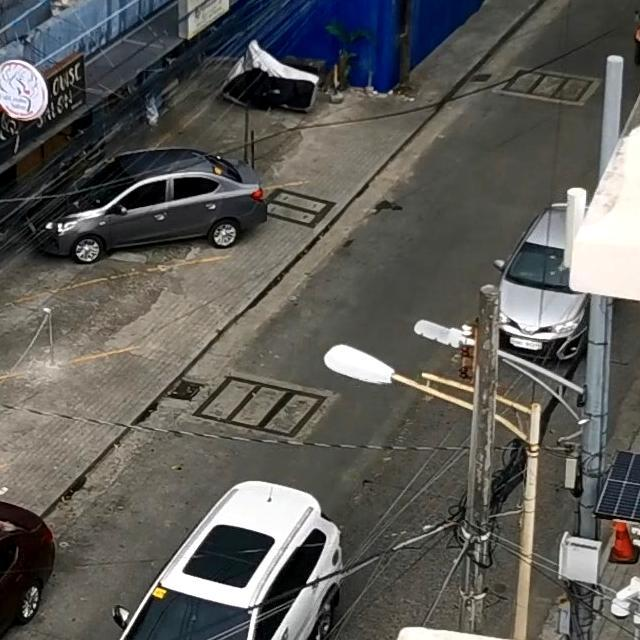Motorcycle: (632, 9, 640, 65)
